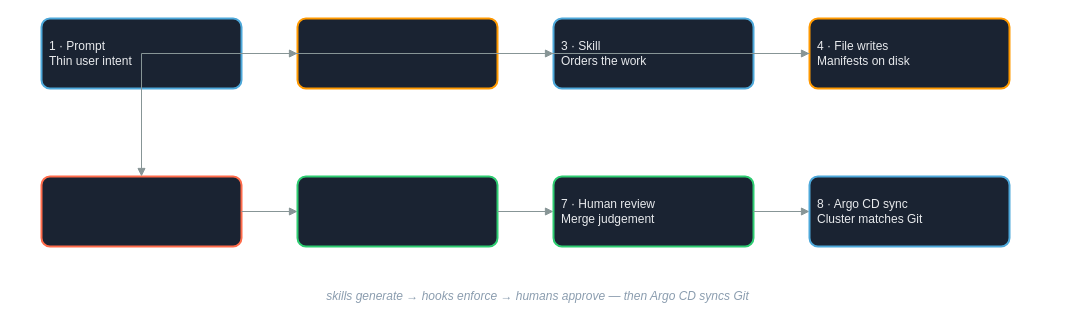
Image size: 1074x320. Some labels were removed from this diagram. The box of each missing label's shape, as (x1, y1, x2, y2) in pixels:
2 · Agent Loads steering + skills: (296, 17, 498, 89)
5 · Hooks Validate / gate / deny: (40, 175, 242, 247)
6 · Commit + PR Git change proposed: (296, 175, 498, 247)
